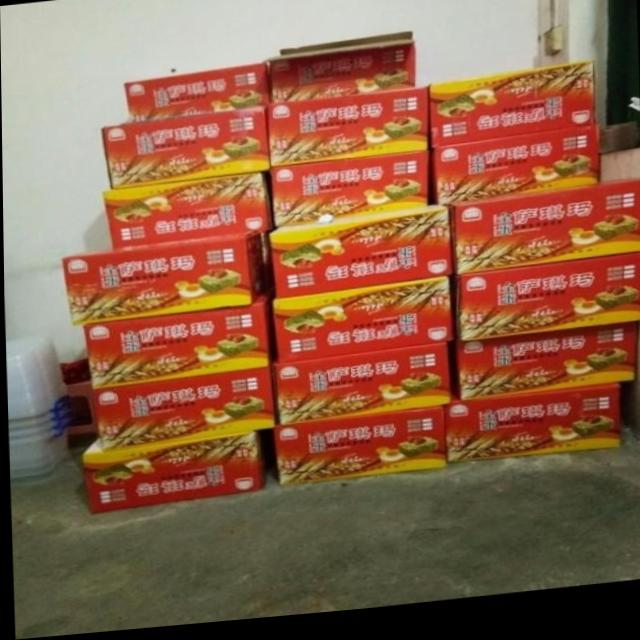box: (61, 234, 266, 327), (446, 190, 640, 282), (83, 300, 269, 389), (269, 212, 452, 302), (455, 264, 640, 350), (90, 371, 275, 455), (271, 285, 455, 369), (81, 436, 261, 516), (429, 71, 595, 155), (274, 352, 450, 431), (274, 412, 447, 492), (455, 333, 636, 408), (101, 110, 270, 189), (442, 394, 616, 470), (430, 135, 598, 212), (267, 94, 428, 172), (104, 176, 271, 251), (270, 157, 426, 232), (267, 39, 415, 109), (124, 66, 271, 125)
